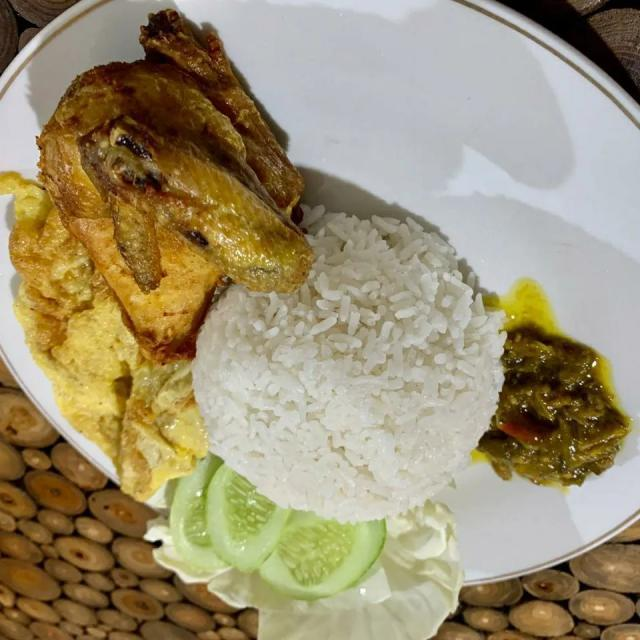ayam_goreng: (55, 53, 312, 354)
nasi_putih: (194, 206, 502, 492)
telur_ayam_dadar: (14, 198, 202, 504)
